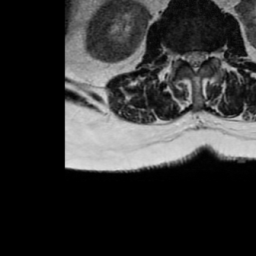CCS_normal: (191, 44, 200, 79)
LFS_stenosis: (208, 40, 215, 66)
LLS_normal: (200, 41, 208, 69)
RFS_severe_stenosis: (174, 41, 183, 68)
RLS_normal: (183, 42, 191, 72)
